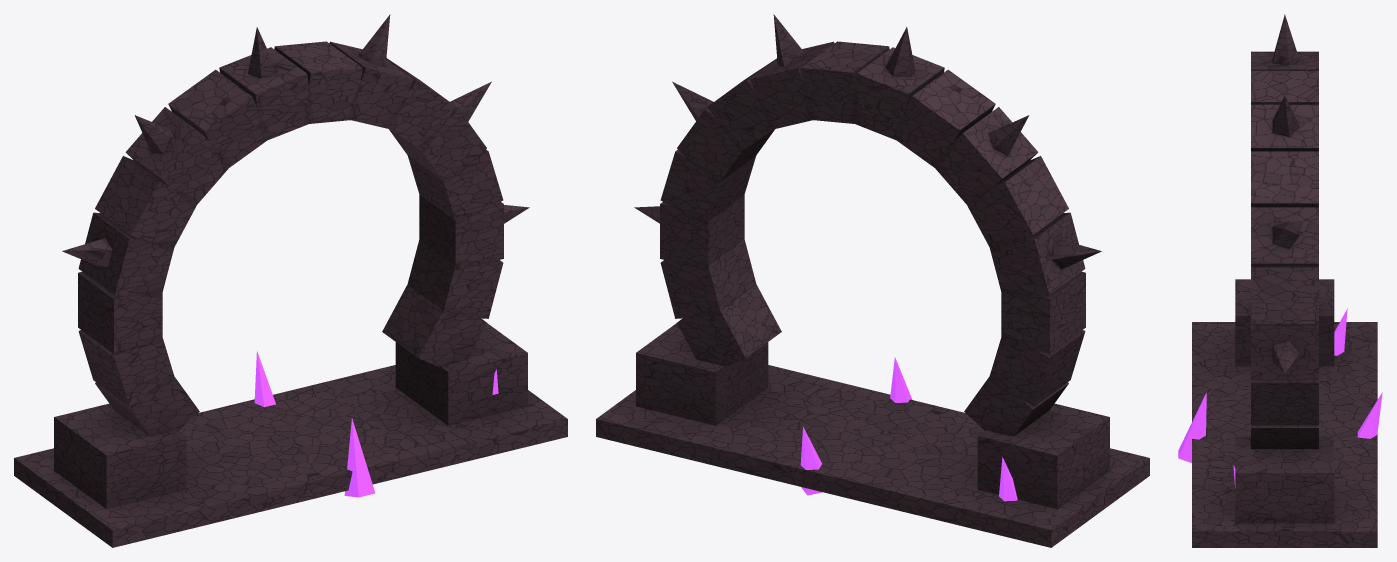
File: Portal.glb
3 renders of one model, left to right at view 1: azimuth 30°, elevation 25°; view 2: azimuth 150°, elevation 25°; view 3: azimuth 270°, elevation 25°, orthographic. The views are drawn at different scales.
Visible parts, largest first — view 1: Portal, PortalShards; view 2: Portal, PortalShards; view 3: Portal, PortalShards.
Boxes of the visible parts, x1=… form: Portal: x1=14, y1=14, x2=567, y2=547; PortalShards: x1=254, y1=351, x2=498, y2=497; Portal: x1=596, y1=14, x2=1149, y2=547; PortalShards: x1=800, y1=357, x2=1017, y2=501; Portal: x1=1192, y1=14, x2=1377, y2=547; PortalShards: x1=1178, y1=308, x2=1382, y2=488.
Bounding box in the file's own units: 8.23 × 7.51 × 3.31.
Materials: 2 (1 with a texture image).
